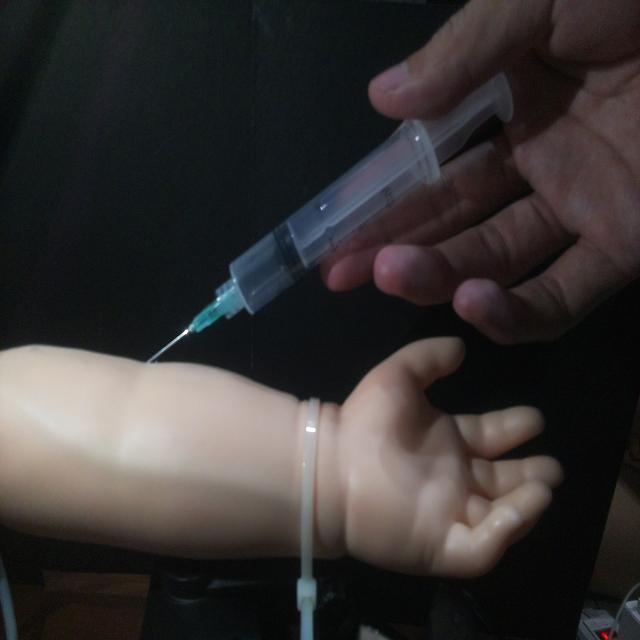26deg: (141, 67, 517, 367)
